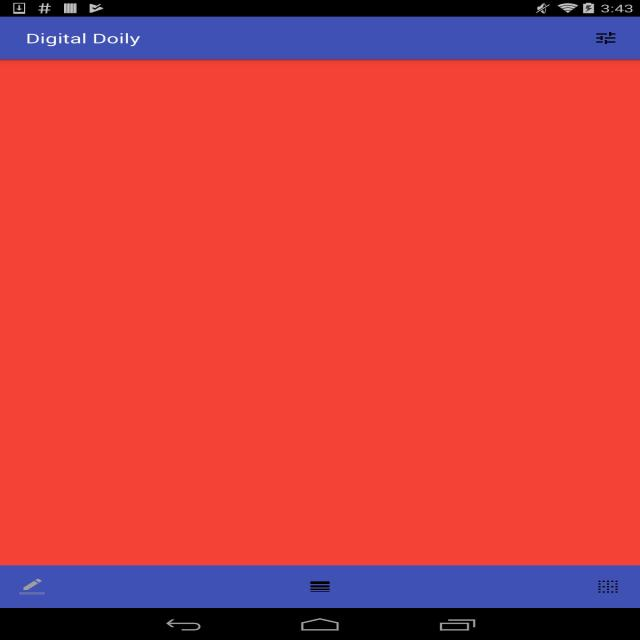button: (287, 572, 350, 601), (9, 569, 60, 600), (583, 572, 633, 602), (588, 28, 623, 48)
heading: (18, 32, 146, 48)
